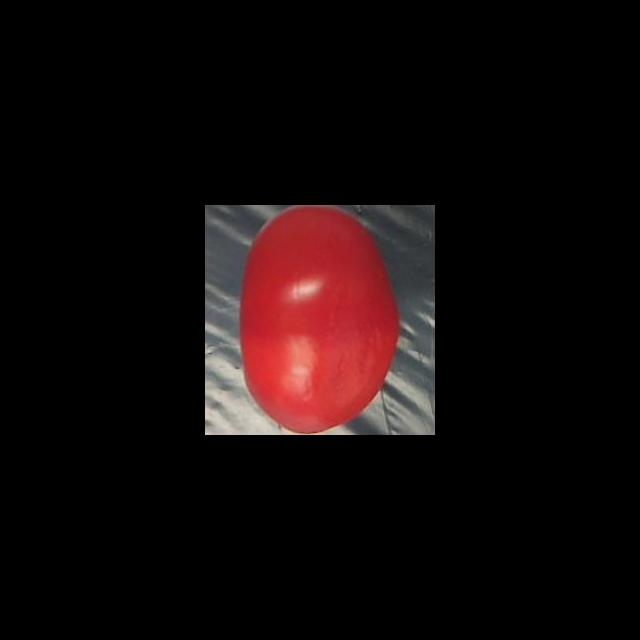tomato: (226, 205, 403, 435)
